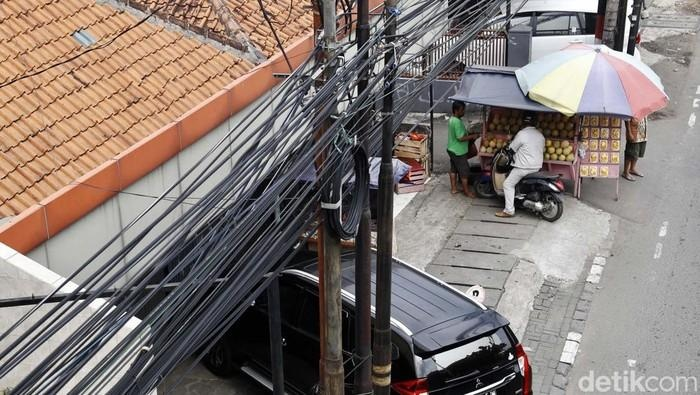Gerobak: (448, 69, 634, 201)
Payung: (514, 43, 672, 120)
